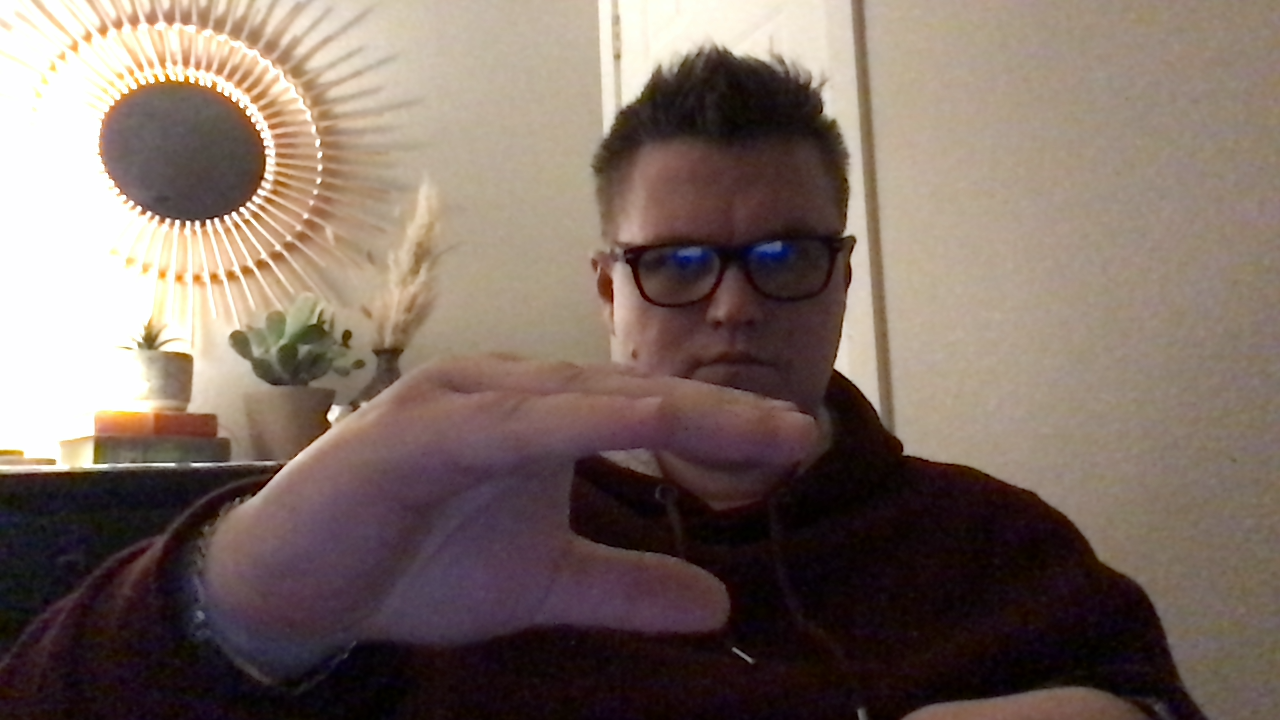no: (187, 356, 818, 671)
